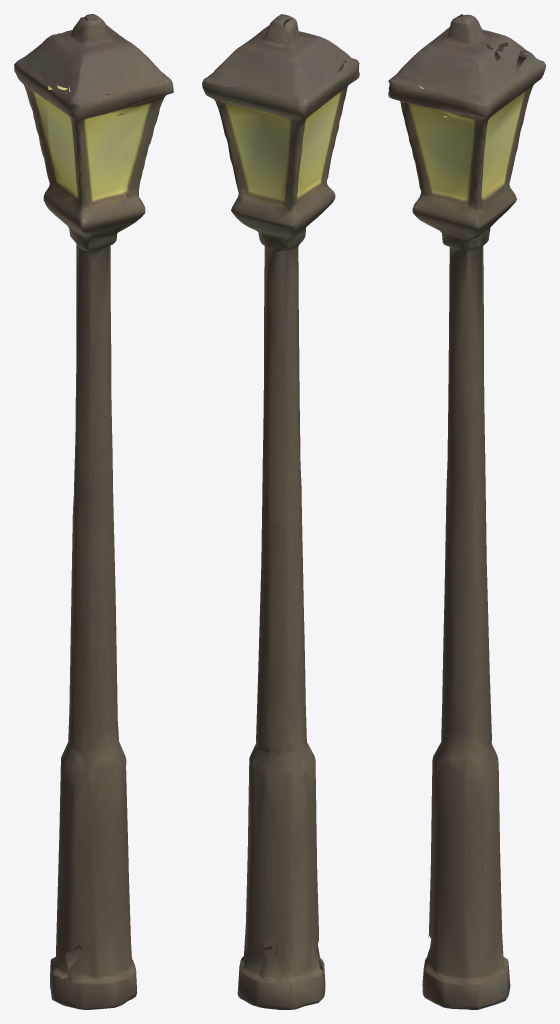
File: path_lamp.glb
3 renders of one model, left to right at view 1: azimuth 30°, elevation 25°; view 2: azimuth 150°, elevation 25°; view 3: azimuth 330°, elevation 25°, orthographic.
Parts seen in each view (by area): view 1: Mesh1.0; view 2: Mesh1.0; view 3: Mesh1.0.
Part boxes in pixels (left/top/right/bottom): Mesh1.0: left=14, top=14, right=173, bottom=1009; Mesh1.0: left=202, top=14, right=359, bottom=1009; Mesh1.0: left=388, top=14, right=545, bottom=1009.
Size of the model in its own units: 0.2192 by 2 by 0.2257.
1 material, 1 textured.
